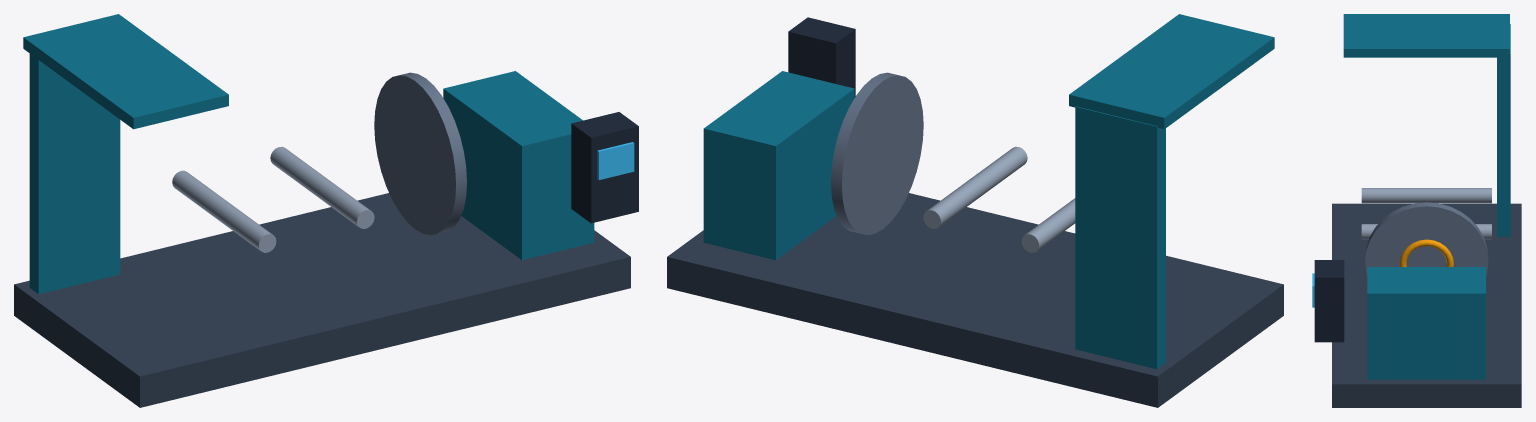
3 renders of one model, left to right at view 1: azimuth 30°, elevation 25°; view 2: azimuth 150°, elevation 25°; view 3: azimuth 270°, elevation 25°, orthographic. The views are drawn at different scales.
Visible parts, largest first — view 1: support_base, filter_4, enclosure_0, enclosure_roof_0, hatch_round_3, operator_console, glove_pipe_1, glove_pipe_2, display; view 2: support_base, enclosure_0, filter_4, enclosure_roof_0, hatch_round_3, operator_console, glove_pipe_2, glove_pipe_1; view 3: support_base, filter_4, enclosure_roof_0, hatch_round_3, operator_console, enclosure_0, glove_pipe_1, hatch_handwheel_3, glove_pipe_2.
Part boxes in pixels (x1,y1,x2,y2): support_base: [14, 193, 630, 407]; filter_4: [443, 71, 594, 260]; enclosure_0: [29, 53, 120, 294]; enclosure_roof_0: [23, 14, 228, 129]; hatch_round_3: [374, 72, 466, 235]; operator_console: [571, 112, 638, 223]; glove_pipe_1: [172, 170, 276, 252]; glove_pipe_2: [270, 146, 374, 228]; display: [597, 142, 634, 179]; support_base: [667, 193, 1283, 407]; enclosure_0: [1075, 106, 1165, 369]; filter_4: [703, 71, 854, 260]; enclosure_roof_0: [1069, 14, 1274, 129]; hatch_round_3: [831, 72, 923, 235]; operator_console: [788, 17, 855, 97]; glove_pipe_2: [923, 146, 1027, 228]; glove_pipe_1: [1021, 198, 1075, 252]; support_base: [1332, 203, 1521, 407]; filter_4: [1367, 267, 1485, 379]; enclosure_roof_0: [1343, 14, 1509, 57]; hatch_round_3: [1365, 202, 1488, 276]; operator_console: [1314, 260, 1344, 342]; enclosure_0: [1497, 24, 1510, 236]; glove_pipe_1: [1361, 188, 1491, 203]; hatch_handwheel_3: [1399, 239, 1453, 266]; glove_pipe_2: [1361, 224, 1491, 239].
Bounding box in the file's own units: 3.6 × 1.99 × 1.77.
